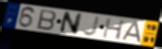6: (18, 6, 38, 29)
A: (120, 21, 143, 44)
B: (36, 9, 58, 32)
H: (102, 17, 126, 41)
J: (81, 15, 101, 37)
N: (58, 11, 84, 36)
